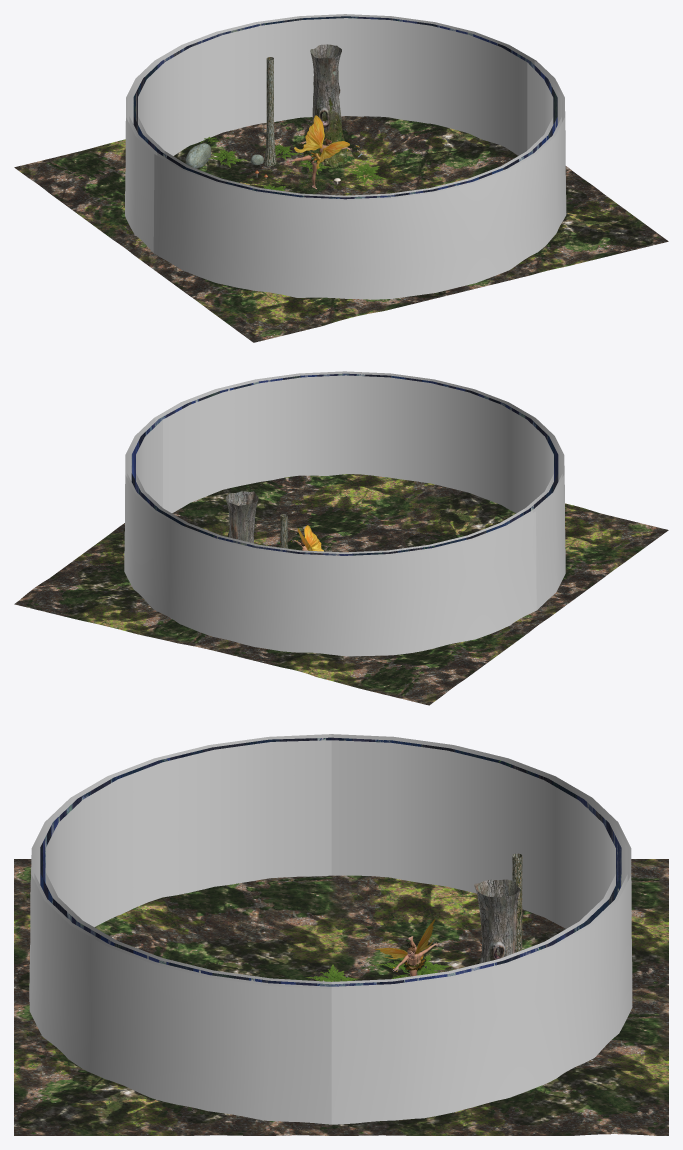
3 renders of one model, top to bottom at view 1: azimuth 30°, elevation 25°; view 2: azimuth 150°, elevation 25°; view 3: azimuth 270°, elevation 25°, orthographic. The views are drawn at different scales.
Visible parts, largest first — view 1: TilingTerrain, SkyCentre_Wallsback, SkyRight_Wallsback, Weather_Right, Weather_Centre, SkyLeft, SkyLeft_Wallsback, Trunk, Weather_Left, Weather_Left_Wallsback, Tree, Wing3out (+9 smaller); view 2: TilingTerrain, SkyLeft, SkyCentre, Weather_Centre_Wallsback, Weather_Left_Wallsback, SkyRight_Wallsback, SkyRight, Weather_Right, Weather_Right_Wallsback, Trunk, Cloud_Left, Cloud_Left_Wallsback (+8 smaller); view 3: TilingTerrain, SkyLeft_Wallsback, SkyRight, Weather_Right_Wallsback, Weather_Left, SkyCentre_Wallsback, SkyCentre, Weather_Centre, Weather_Centre_Wallsback, Trunk, Cloud_Right_Wallsback, Cloud_Left (+13 smaller).
Boxes of the visible parts, x1,y1,x2,y2 form: TilingTerrain: (14, 116, 668, 342); SkyCentre_Wallsback: (345, 154, 537, 299); SkyRight_Wallsback: (153, 154, 345, 298); Weather_Right: (346, 18, 527, 155); Weather_Centre: (164, 18, 345, 155); SkyLeft: (125, 61, 154, 252); SkyLeft_Wallsback: (536, 61, 566, 251); Trunk: (297, 44, 354, 167); Weather_Left: (138, 63, 164, 153); Weather_Left_Wallsback: (526, 62, 553, 153); Tree: (264, 57, 276, 165); Wing3out: (294, 115, 349, 168); TilingTerrain: (14, 474, 668, 705); SkyLeft: (345, 511, 536, 656); SkyCentre: (153, 511, 344, 656); Weather_Centre_Wallsback: (346, 375, 526, 513); Weather_Left_Wallsback: (163, 375, 345, 513); SkyRight_Wallsback: (536, 418, 565, 609); SkyRight: (124, 418, 153, 608); Weather_Right: (136, 420, 162, 510); Weather_Right_Wallsback: (525, 420, 553, 510); Trunk: (225, 491, 258, 543); Cloud_Left: (344, 510, 532, 557); Cloud_Left_Wallsback: (155, 372, 345, 421); TilingTerrain: (14, 859, 668, 1135); SkyLeft_Wallsback: (68, 925, 331, 1124); SkyRight: (331, 925, 593, 1124); Weather_Right_Wallsback: (82, 740, 331, 927); Weather_Left: (331, 740, 579, 928); SkyCentre_Wallsback: (29, 798, 70, 1058); SkyCentre: (592, 798, 632, 1057); Weather_Centre: (579, 801, 615, 925); Weather_Centre_Wallsback: (46, 800, 82, 924); Trunk: (474, 879, 520, 963); Cloud_Right_Wallsback: (72, 735, 331, 802); Cloud_Left: (331, 735, 589, 803).
Size of the model in its own units: 6.27 by 1.6 by 6.27.
